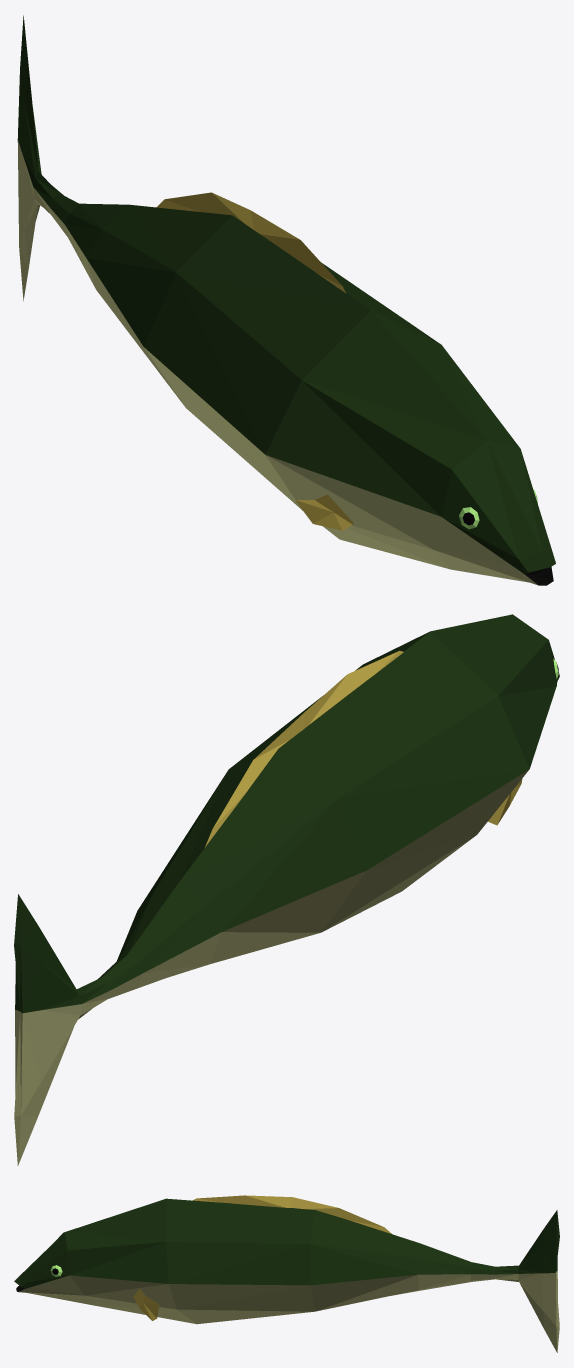
The model's file is Minnnow_ioexperment_000013.obj.
The picture shows the model from 3 angles, top to bottom: view 1: azimuth 30°, elevation 25°; view 2: azimuth 150°, elevation 25°; view 3: azimuth 270°, elevation 25°; orthographic projection. The views are drawn at different scales.
Bounding box in the file's own units: 0.71 × 0.9146 × 3.03.
